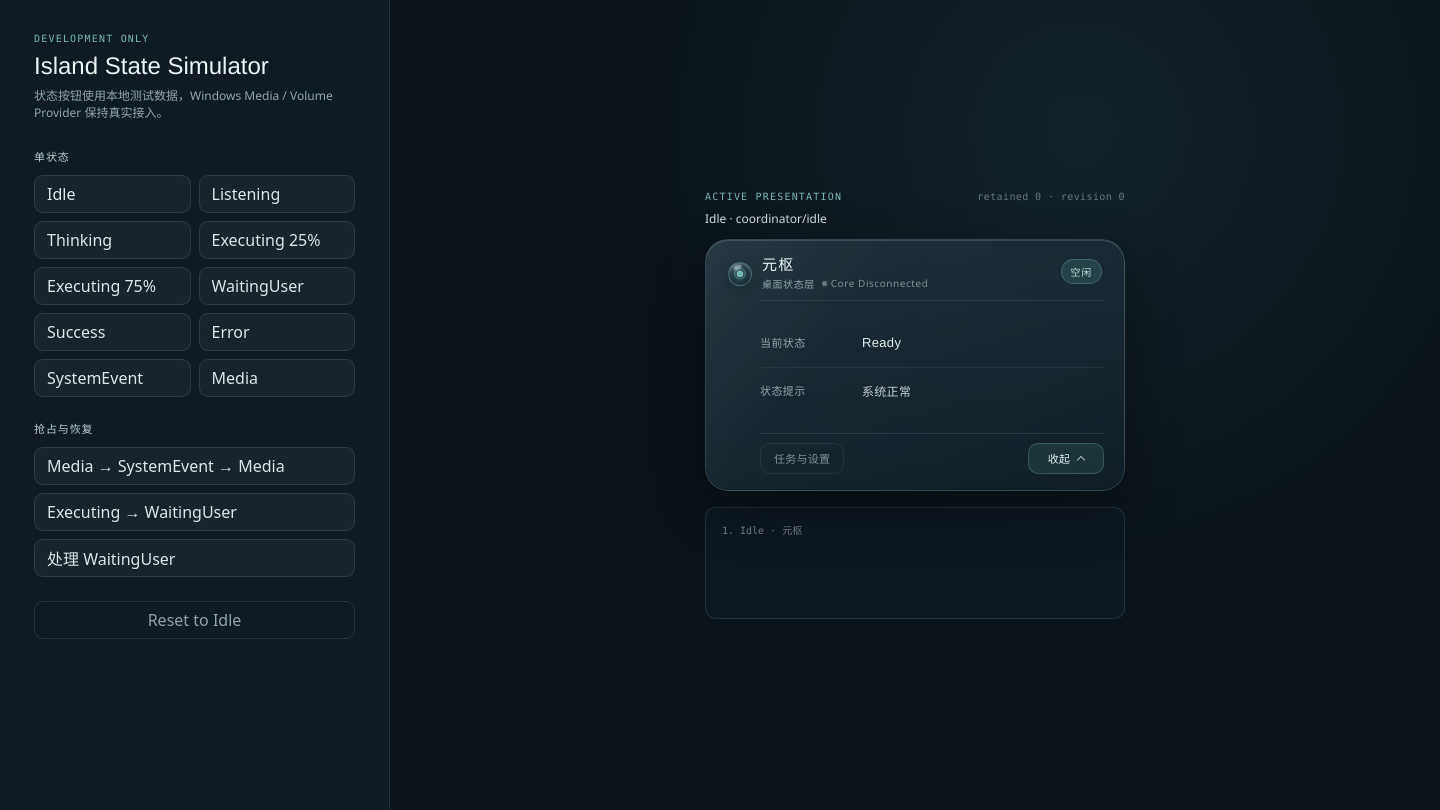
Island State Simulator › Listening 控件触发 Listening 展示
Click the button "Listening" at (277, 194), box x1=198 y1=175 x2=355 y2=213
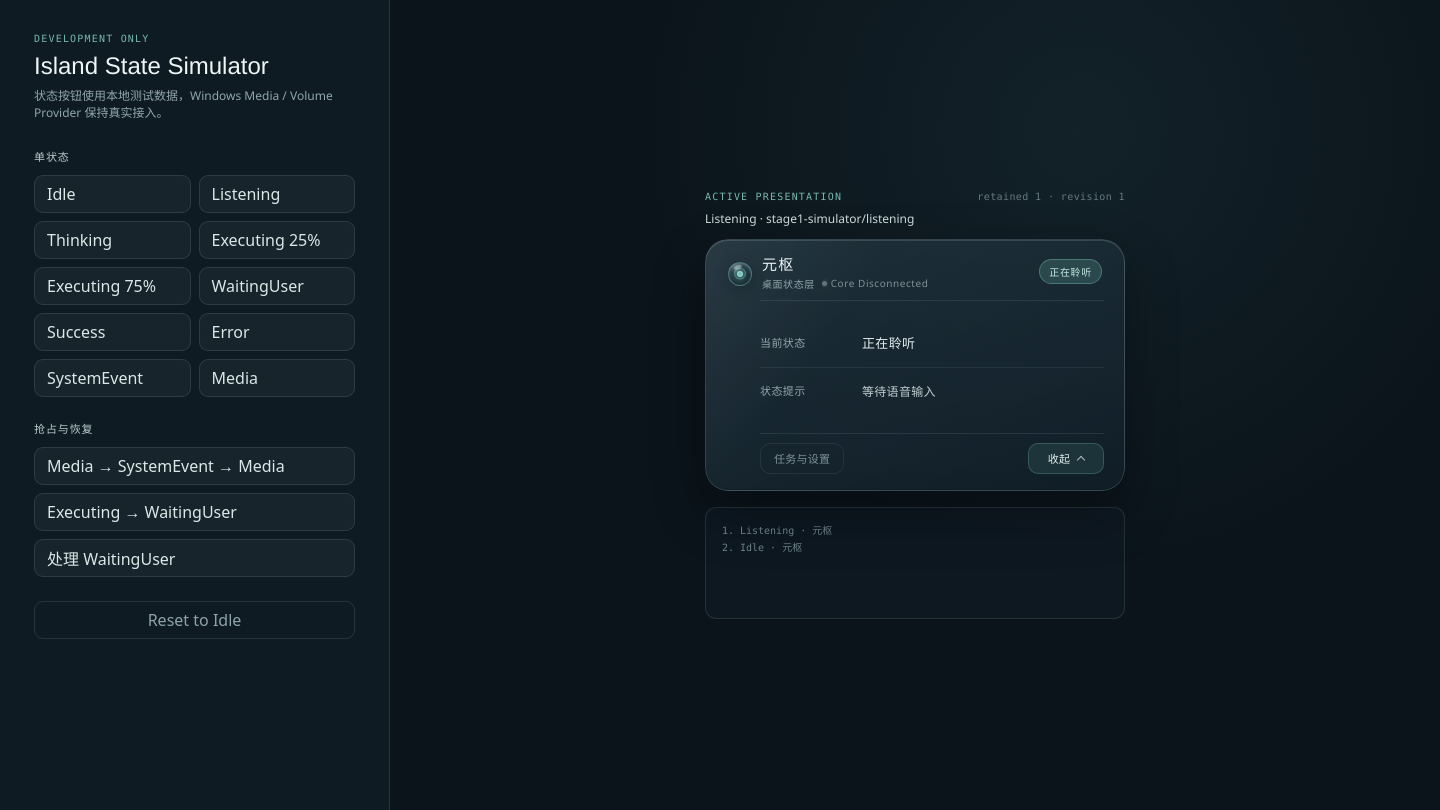
Expected: the text with test id "simulator-active" shows "Listening", x1=705 y1=210 x2=756 y2=226
